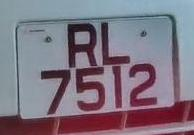1: (107, 63, 130, 113)
2: (123, 61, 164, 111)
5: (72, 64, 110, 117)
7: (34, 63, 78, 122)
L: (98, 17, 132, 67)
R: (62, 18, 101, 68)
